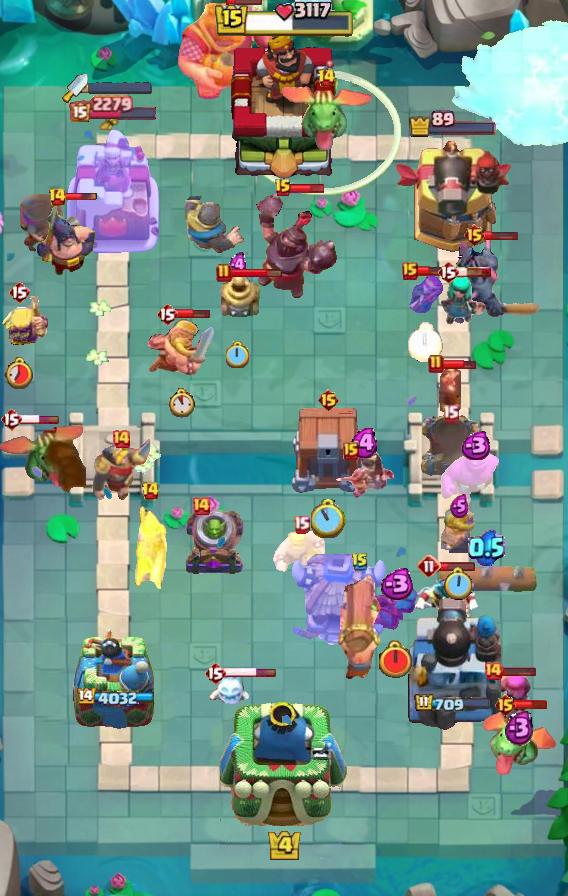archer: (407, 276, 443, 324)
bar: (223, 667, 277, 678), (6, 414, 60, 425), (230, 268, 283, 279), (441, 358, 477, 371), (501, 665, 537, 677), (456, 266, 492, 278), (484, 229, 519, 241), (439, 561, 476, 572), (175, 308, 211, 319), (416, 265, 449, 277), (290, 183, 325, 194), (514, 699, 548, 710), (64, 192, 98, 202), (226, 0, 263, 6)
bar-level: (417, 554, 441, 578), (494, 693, 517, 717), (317, 388, 340, 412), (463, 223, 486, 247), (204, 661, 226, 685), (0, 407, 22, 431), (156, 302, 178, 326), (8, 280, 30, 304), (437, 260, 459, 284), (483, 661, 503, 681), (191, 496, 211, 516), (111, 429, 131, 449), (141, 481, 160, 501), (48, 187, 67, 207), (317, 68, 336, 88), (351, 552, 369, 572), (274, 178, 292, 198), (293, 515, 310, 534), (442, 404, 459, 423), (428, 354, 444, 374), (216, 263, 232, 283), (343, 442, 359, 460), (402, 262, 418, 280)
barbarian: (273, 527, 329, 579)
barbarian-evolution: (0, 296, 48, 347)
cannoneer-tower: (392, 138, 514, 256), (405, 595, 501, 731)
clock: (377, 640, 414, 680), (408, 322, 443, 362), (311, 499, 346, 538), (444, 567, 474, 602), (4, 356, 35, 389), (167, 388, 196, 418), (226, 341, 250, 368)
dagger-duchess-tower: (64, 124, 164, 256)
dagger-duchess-tower-bar: (88, 82, 152, 94)
electro-wizard: (409, 569, 483, 627)
elite-barbarian: (146, 319, 216, 377), (441, 507, 477, 554)
elixir: (468, 529, 505, 566), (376, 568, 415, 600), (504, 709, 535, 746), (457, 431, 492, 460), (350, 428, 381, 458), (228, 252, 248, 278), (450, 494, 469, 518)
elixir-golem-mid: (440, 449, 508, 505)
executioner: (36, 200, 98, 278)
fire-spirit: (437, 367, 463, 417)
firecracker: (486, 668, 532, 724)
ice-spirit: (208, 670, 252, 708)
king-tower: (222, 31, 346, 181), (220, 701, 348, 826)
king-tower-bar: (213, 0, 355, 40)
knight: (92, 439, 150, 502), (184, 196, 245, 253)
mortar: (418, 413, 482, 479)
mortar-evolution: (182, 507, 246, 577)
musketeer: (20, 194, 84, 256), (131, 504, 169, 602)
princess: (334, 449, 396, 501)
queen-tower: (72, 627, 156, 731)
rascal-girl: (440, 274, 488, 326), (371, 585, 419, 633)
the-log: (434, 561, 538, 595)
tower-bar: (408, 110, 498, 138), (69, 94, 159, 122), (414, 693, 492, 714), (75, 688, 154, 708)
zappy: (215, 273, 261, 319)
